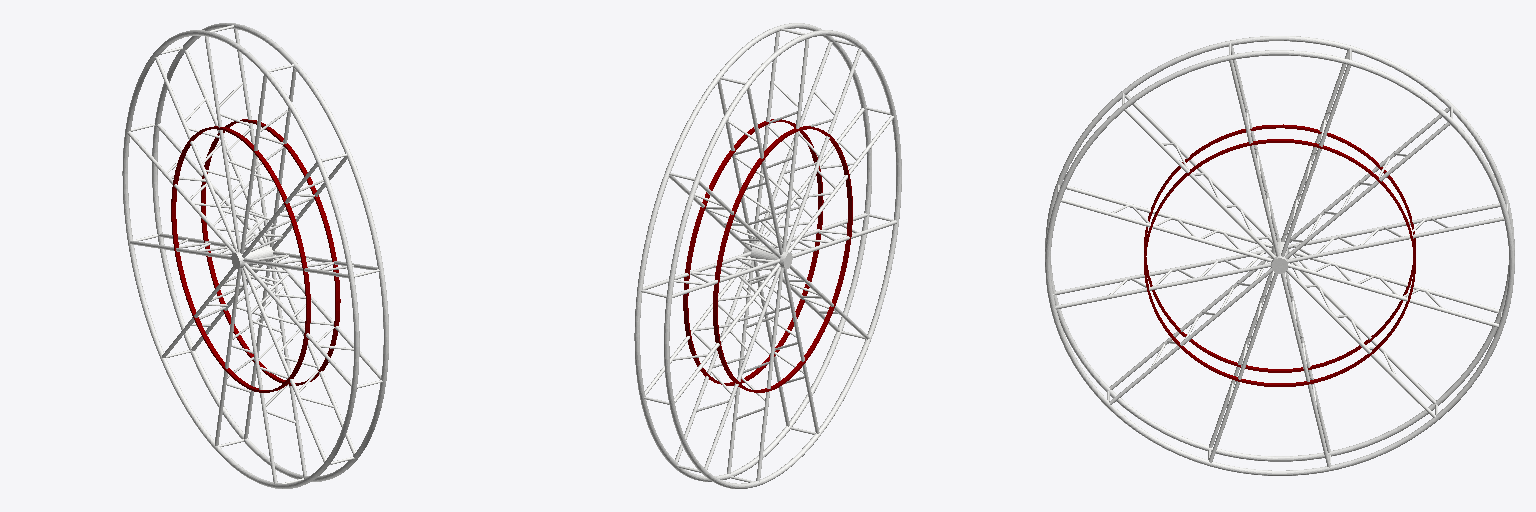
3 views of the same model, side by side, from view 1: azimuth 30°, elevation 25°; view 2: azimuth 150°, elevation 25°; view 3: azimuth 270°, elevation 25° (orthographic).
Parts seen in each view (by area): view 1: All_Wheel_Mat.4, All_Wheel_Mat.2, All_Wheel_Mat, All_Wheel_Mat.1; view 2: All_Wheel_Mat.4, All_Wheel_Mat.2, All_Wheel_Mat, All_Wheel_Mat.1; view 3: All_Wheel_Mat.4, All_Wheel_Mat.2, All_Wheel_Mat, All_Wheel_Mat.1.
Part boxes in pixels (x1,y1,x2,y2): All_Wheel_Mat.4: (122, 23, 388, 488); All_Wheel_Mat.2: (171, 119, 340, 392); All_Wheel_Mat: (167, 82, 353, 423); All_Wheel_Mat.1: (131, 25, 382, 483); All_Wheel_Mat.4: (634, 23, 901, 488); All_Wheel_Mat.2: (683, 119, 852, 392); All_Wheel_Mat: (673, 82, 857, 419); All_Wheel_Mat.1: (641, 28, 893, 482); All_Wheel_Mat.4: (1045, 36, 1514, 475); All_Wheel_Mat.2: (1144, 124, 1415, 386); All_Wheel_Mat: (1109, 107, 1448, 406); All_Wheel_Mat.1: (1053, 43, 1507, 462).
Bounding box in the file's own units: 0.8896 × 8.84 × 8.84.
4 materials, 2 textured.